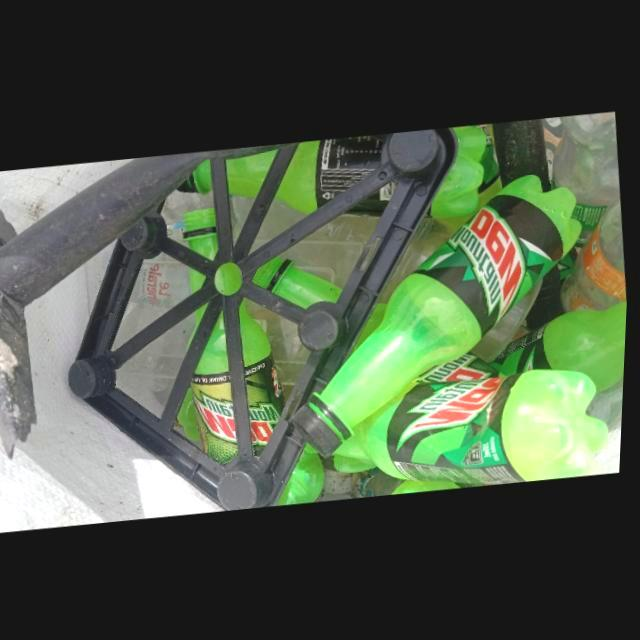plastic_bottle: (296, 173, 585, 456), (335, 368, 612, 484), (493, 299, 629, 392), (553, 111, 622, 248), (277, 135, 383, 213), (562, 196, 629, 312), (431, 124, 489, 218), (227, 149, 280, 197), (344, 181, 398, 217), (178, 159, 215, 195)
